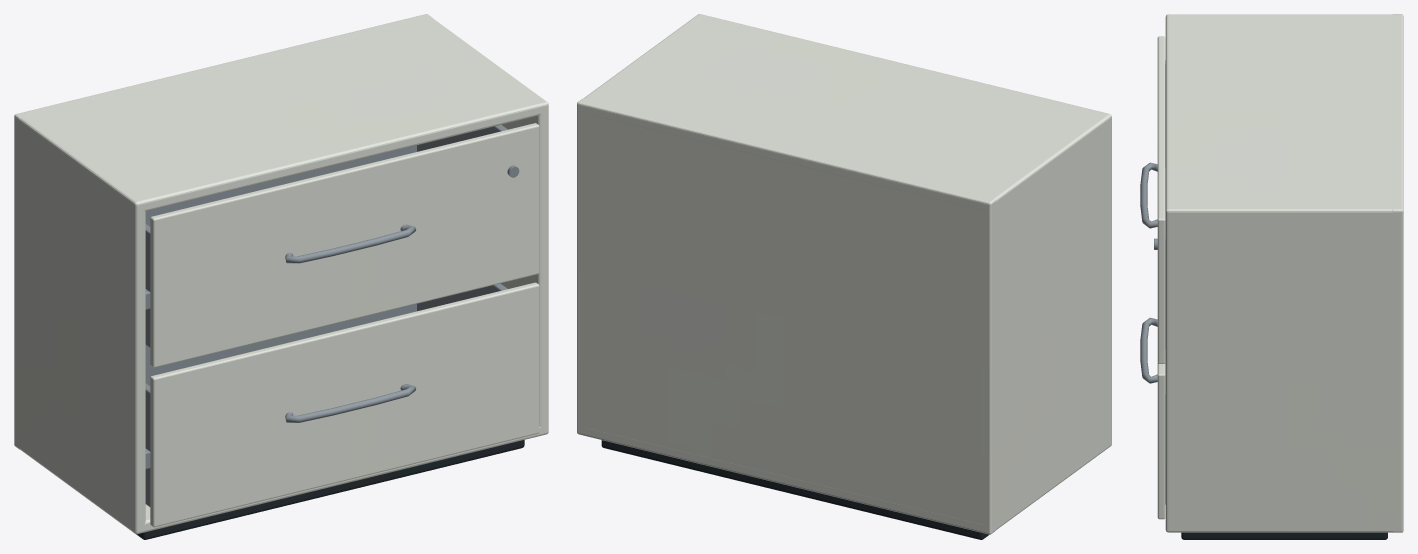
The model's file is crime-filing-cabinet-lateral.glb.
3 renders of one model, left to right at view 1: azimuth 30°, elevation 25°; view 2: azimuth 150°, elevation 25°; view 3: azimuth 270°, elevation 25°, orthographic. The views are drawn at different scales.
Parts seen in each view (by area): view 1: Drawer face, Drawer face.001, Cabinet horizontal.001, Cabinet side, Cabinet side.001, File anti-tip plinth, Cabinet back, File drawer box back, File drawer box back.001, Cabinet horizontal, Furniture pull.001, Furniture pull (+2 smaller); view 2: Cabinet back, Cabinet horizontal.001, Cabinet side, File anti-tip plinth, Cabinet side.001, Cabinet horizontal; view 3: Cabinet side.001, Cabinet horizontal.001, Cabinet back, Drawer face.001, File anti-tip plinth, Drawer face, Cabinet side, Furniture pull, Furniture pull.001.
Boxes of the visible parts, left/top/right/bottom form: Drawer face: left=150, top=282, right=539, bottom=527; Drawer face.001: left=150, top=123, right=539, bottom=367; Cabinet horizontal.001: left=20, top=18, right=548, bottom=211; Cabinet side: left=14, top=116, right=145, bottom=534; Cabinet side.001: left=425, top=17, right=548, bottom=433; File anti-tip plinth: left=136, top=440, right=524, bottom=539; Cabinet back: left=14, top=14, right=432, bottom=449; File drawer box back: left=145, top=304, right=416, bottom=385; File drawer box back.001: left=145, top=145, right=416, bottom=226; Cabinet horizontal: left=135, top=426, right=548, bottom=534; Furniture pull.001: left=285, top=224, right=416, bottom=263; Furniture pull: left=285, top=384, right=416, bottom=422; Cabinet back: left=577, top=98, right=995, bottom=534; Cabinet horizontal.001: left=578, top=14, right=1110, bottom=211; Cabinet side: left=982, top=112, right=1111, bottom=531; File anti-tip plinth: left=601, top=440, right=989, bottom=539; Cabinet side.001: left=578, top=14, right=705, bottom=427; Cabinet horizontal: left=578, top=426, right=988, bottom=532; Cabinet side.001: left=1165, top=206, right=1400, bottom=531; Cabinet horizontal.001: left=1165, top=14, right=1393, bottom=218; Cabinet back: left=1392, top=14, right=1403, bottom=532; Drawer face.001: left=1157, top=36, right=1165, bottom=363; File anti-tip plinth: left=1181, top=532, right=1387, bottom=539; Drawer face: left=1157, top=363, right=1165, bottom=519; Cabinet side: left=1167, top=14, right=1393, bottom=17; Furniture pull: left=1140, top=317, right=1157, bottom=383; Furniture pull.001: left=1140, top=162, right=1157, bottom=228.
Bounding box in the file's own units: 0.9 × 0.7225 × 0.5091.
Materials: 3 (3 with a texture image).
